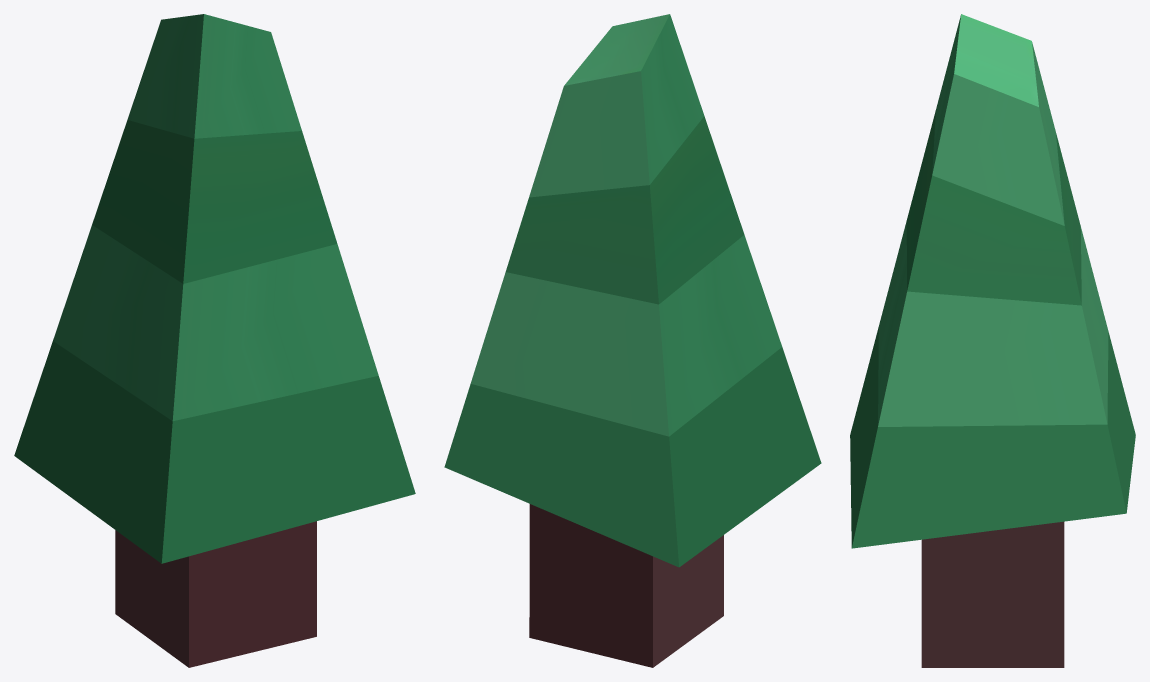
The model's file is tree3.FBX.
The picture shows the model from 3 angles, left to right: view 1: azimuth 30°, elevation 25°; view 2: azimuth 150°, elevation 25°; view 3: azimuth 270°, elevation 25°; orthographic projection. The views are drawn at different scales.
Visible parts, largest first — view 1: tree3; view 2: tree3; view 3: tree3.
Part boxes in pixels (x1=…): tree3: x1=14, y1=14, x2=415, y2=667; tree3: x1=444, y1=14, x2=821, y2=667; tree3: x1=850, y1=14, x2=1135, y2=667.
Bounding box in the file's own units: 22.85 × 22.91 × 53.99.
